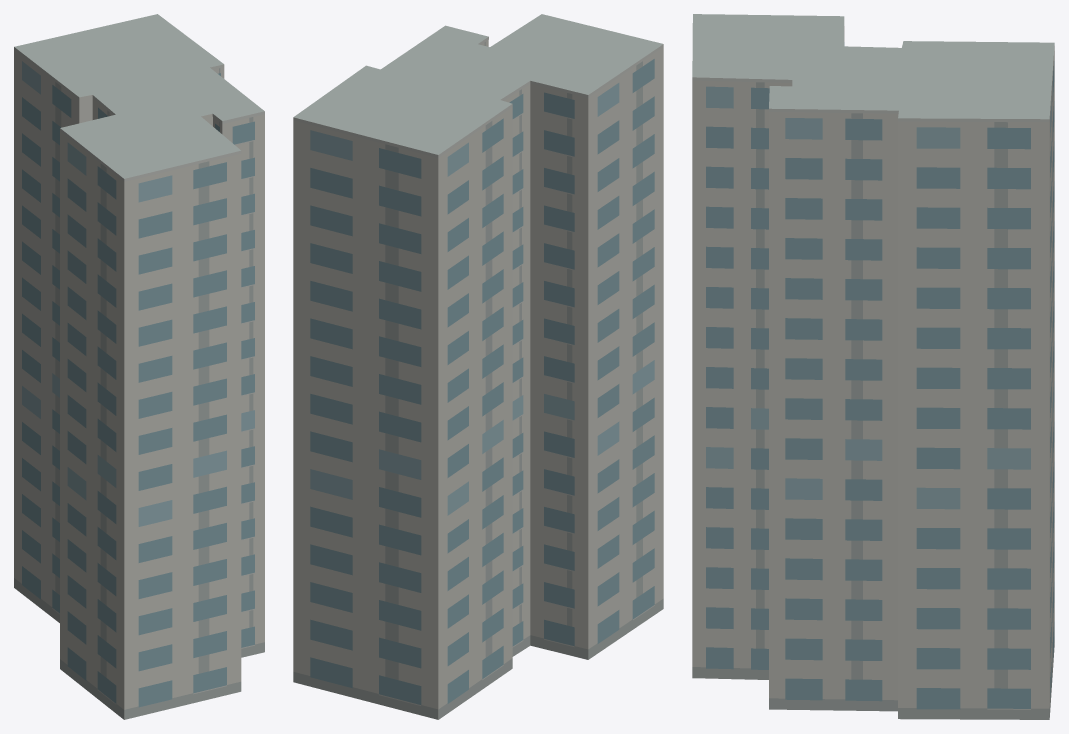
File: survey-upis-32639709.glb
3 views of the same model, side by side, from view 1: azimuth 30°, elevation 25°; view 2: azimuth 150°, elevation 25°; view 3: azimuth 270°, elevation 25° (orthographic). The views are drawn at different scales.
Parts seen in each view (by area): view 1: survey-upis-32639709.tmp; view 2: survey-upis-32639709.tmp; view 3: survey-upis-32639709.tmp.
Boxes of the visible parts, x1=… form: survey-upis-32639709.tmp: x1=14, y1=14, x2=264, y2=719; survey-upis-32639709.tmp: x1=293, y1=14, x2=663, y2=719; survey-upis-32639709.tmp: x1=692, y1=14, x2=1054, y2=719.
Bounding box in the file's own units: 17.19 × 45.75 × 25.02.
